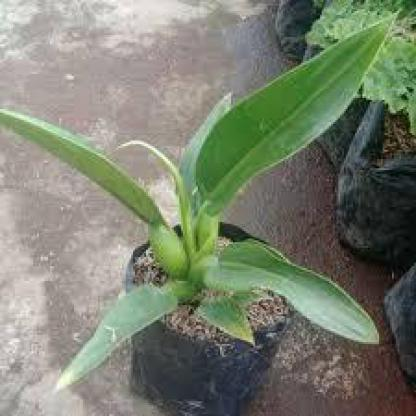Kenanga: (50, 131, 180, 336), (260, 122, 380, 316)
